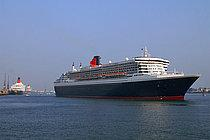Ship: (55, 55, 203, 105), (9, 78, 27, 96)
